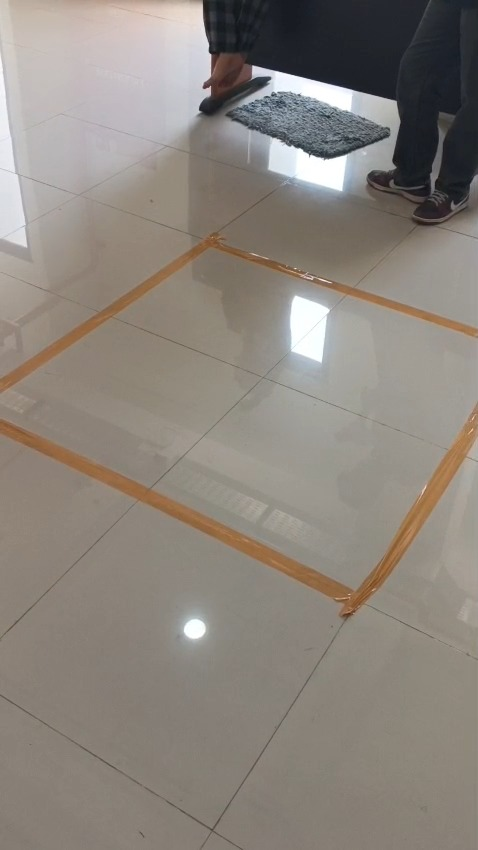floor marking: (0, 402, 477, 617), (0, 234, 477, 393)
